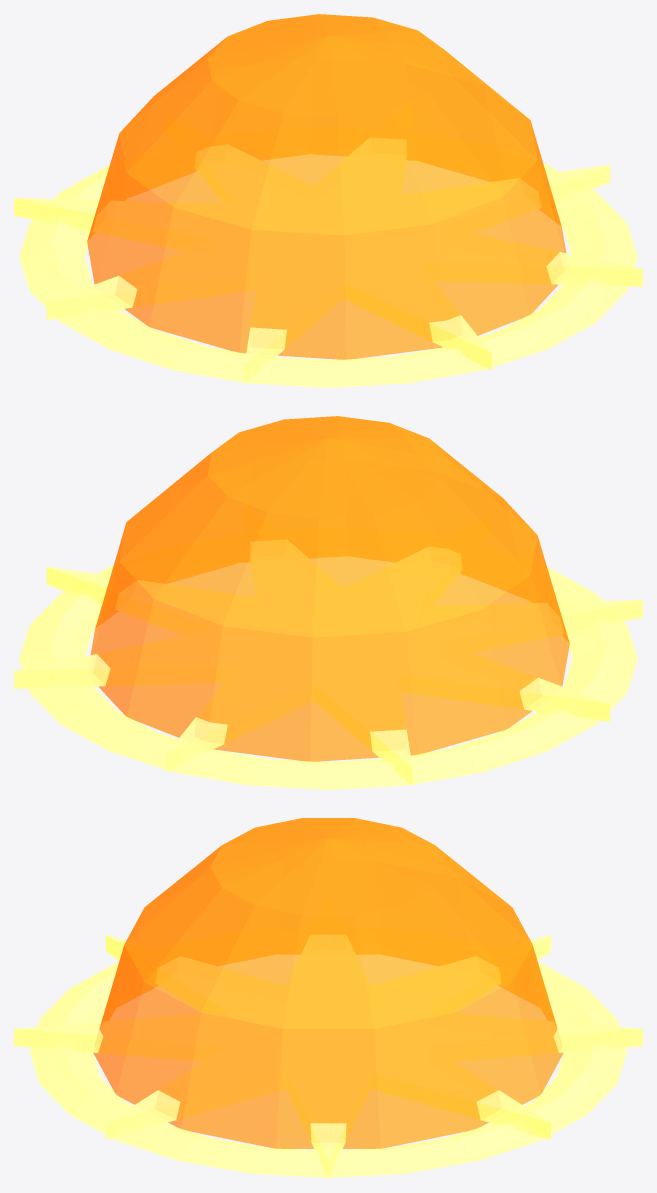
The model's file is fx_blast_x.glb.
3 views of the same model, one above another, from view 1: azimuth 30°, elevation 25°; view 2: azimuth 150°, elevation 25°; view 3: azimuth 270°, elevation 25° (orthographic). The views are drawn at different scales.
Visible parts, largest first — view 1: fx_blast_x; view 2: fx_blast_x; view 3: fx_blast_x.
Part boxes in pixels (bbox=[...]): fx_blast_x: bbox=[14, 14, 642, 387]; fx_blast_x: bbox=[14, 416, 642, 789]; fx_blast_x: bbox=[14, 818, 642, 1178].
Bounding box in the file's own units: 2 × 0.79 × 2.
